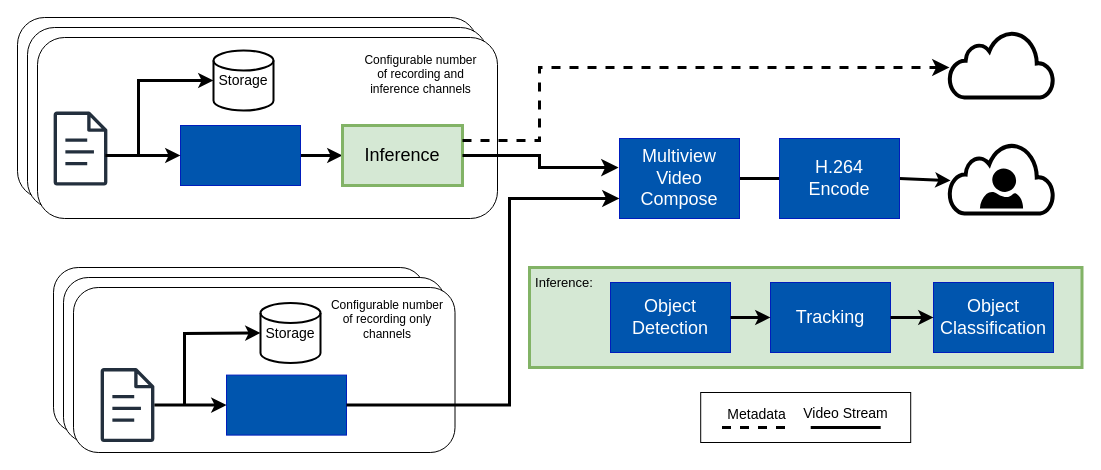
Image size: 1101x470. Some labels were removed from this diagram. The shapes that lost their labels are listed below. From the top down, each one's box as (x1, y1, x2, y2) in pixels, then its label:
(947, 29, 1055, 99): MQTT
(180, 124, 300, 186): H.264 Decode
(947, 141, 1055, 215): Cloud User
(226, 374, 346, 435): Media Decode
